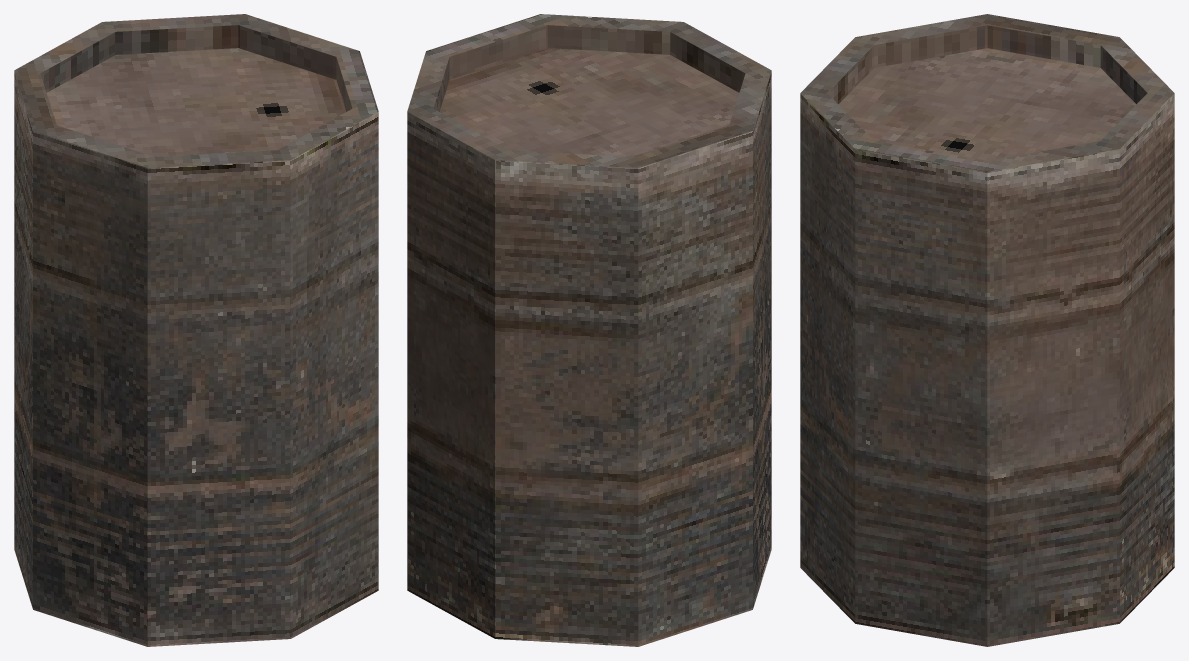
Rendered from barrel345654673_with_col.glb.
The picture shows the model from 3 angles, left to right: view 1: azimuth 30°, elevation 25°; view 2: azimuth 150°, elevation 25°; view 3: azimuth 270°, elevation 25°; orthographic projection.
Parts seen in each view (by area): view 1: barrel-col; view 2: barrel-col; view 3: barrel-col.
Boxes of the visible parts, x1,y1,x2,y2 form: barrel-col: (14, 14, 378, 646); barrel-col: (407, 14, 771, 646); barrel-col: (800, 14, 1174, 646).
Size of the model in its own units: 2 by 2.8 by 2.
Materials: 2 (2 with a texture image).
